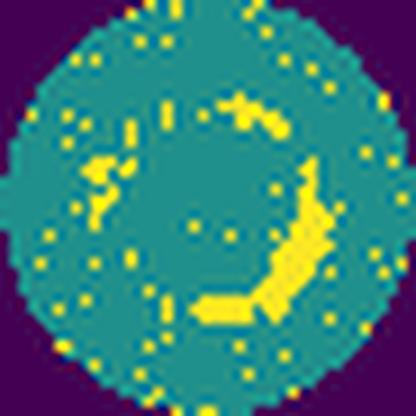Donut: (79, 73, 354, 336)
